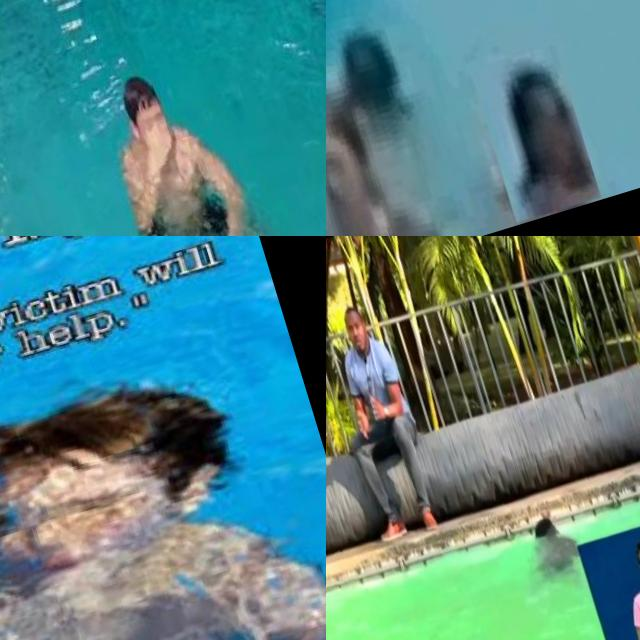drowning: (0, 323, 326, 640), (333, 9, 457, 160)
out of water: (326, 279, 464, 548)
swimming: (74, 41, 277, 236), (469, 43, 602, 224), (326, 72, 400, 236), (516, 502, 588, 585)
